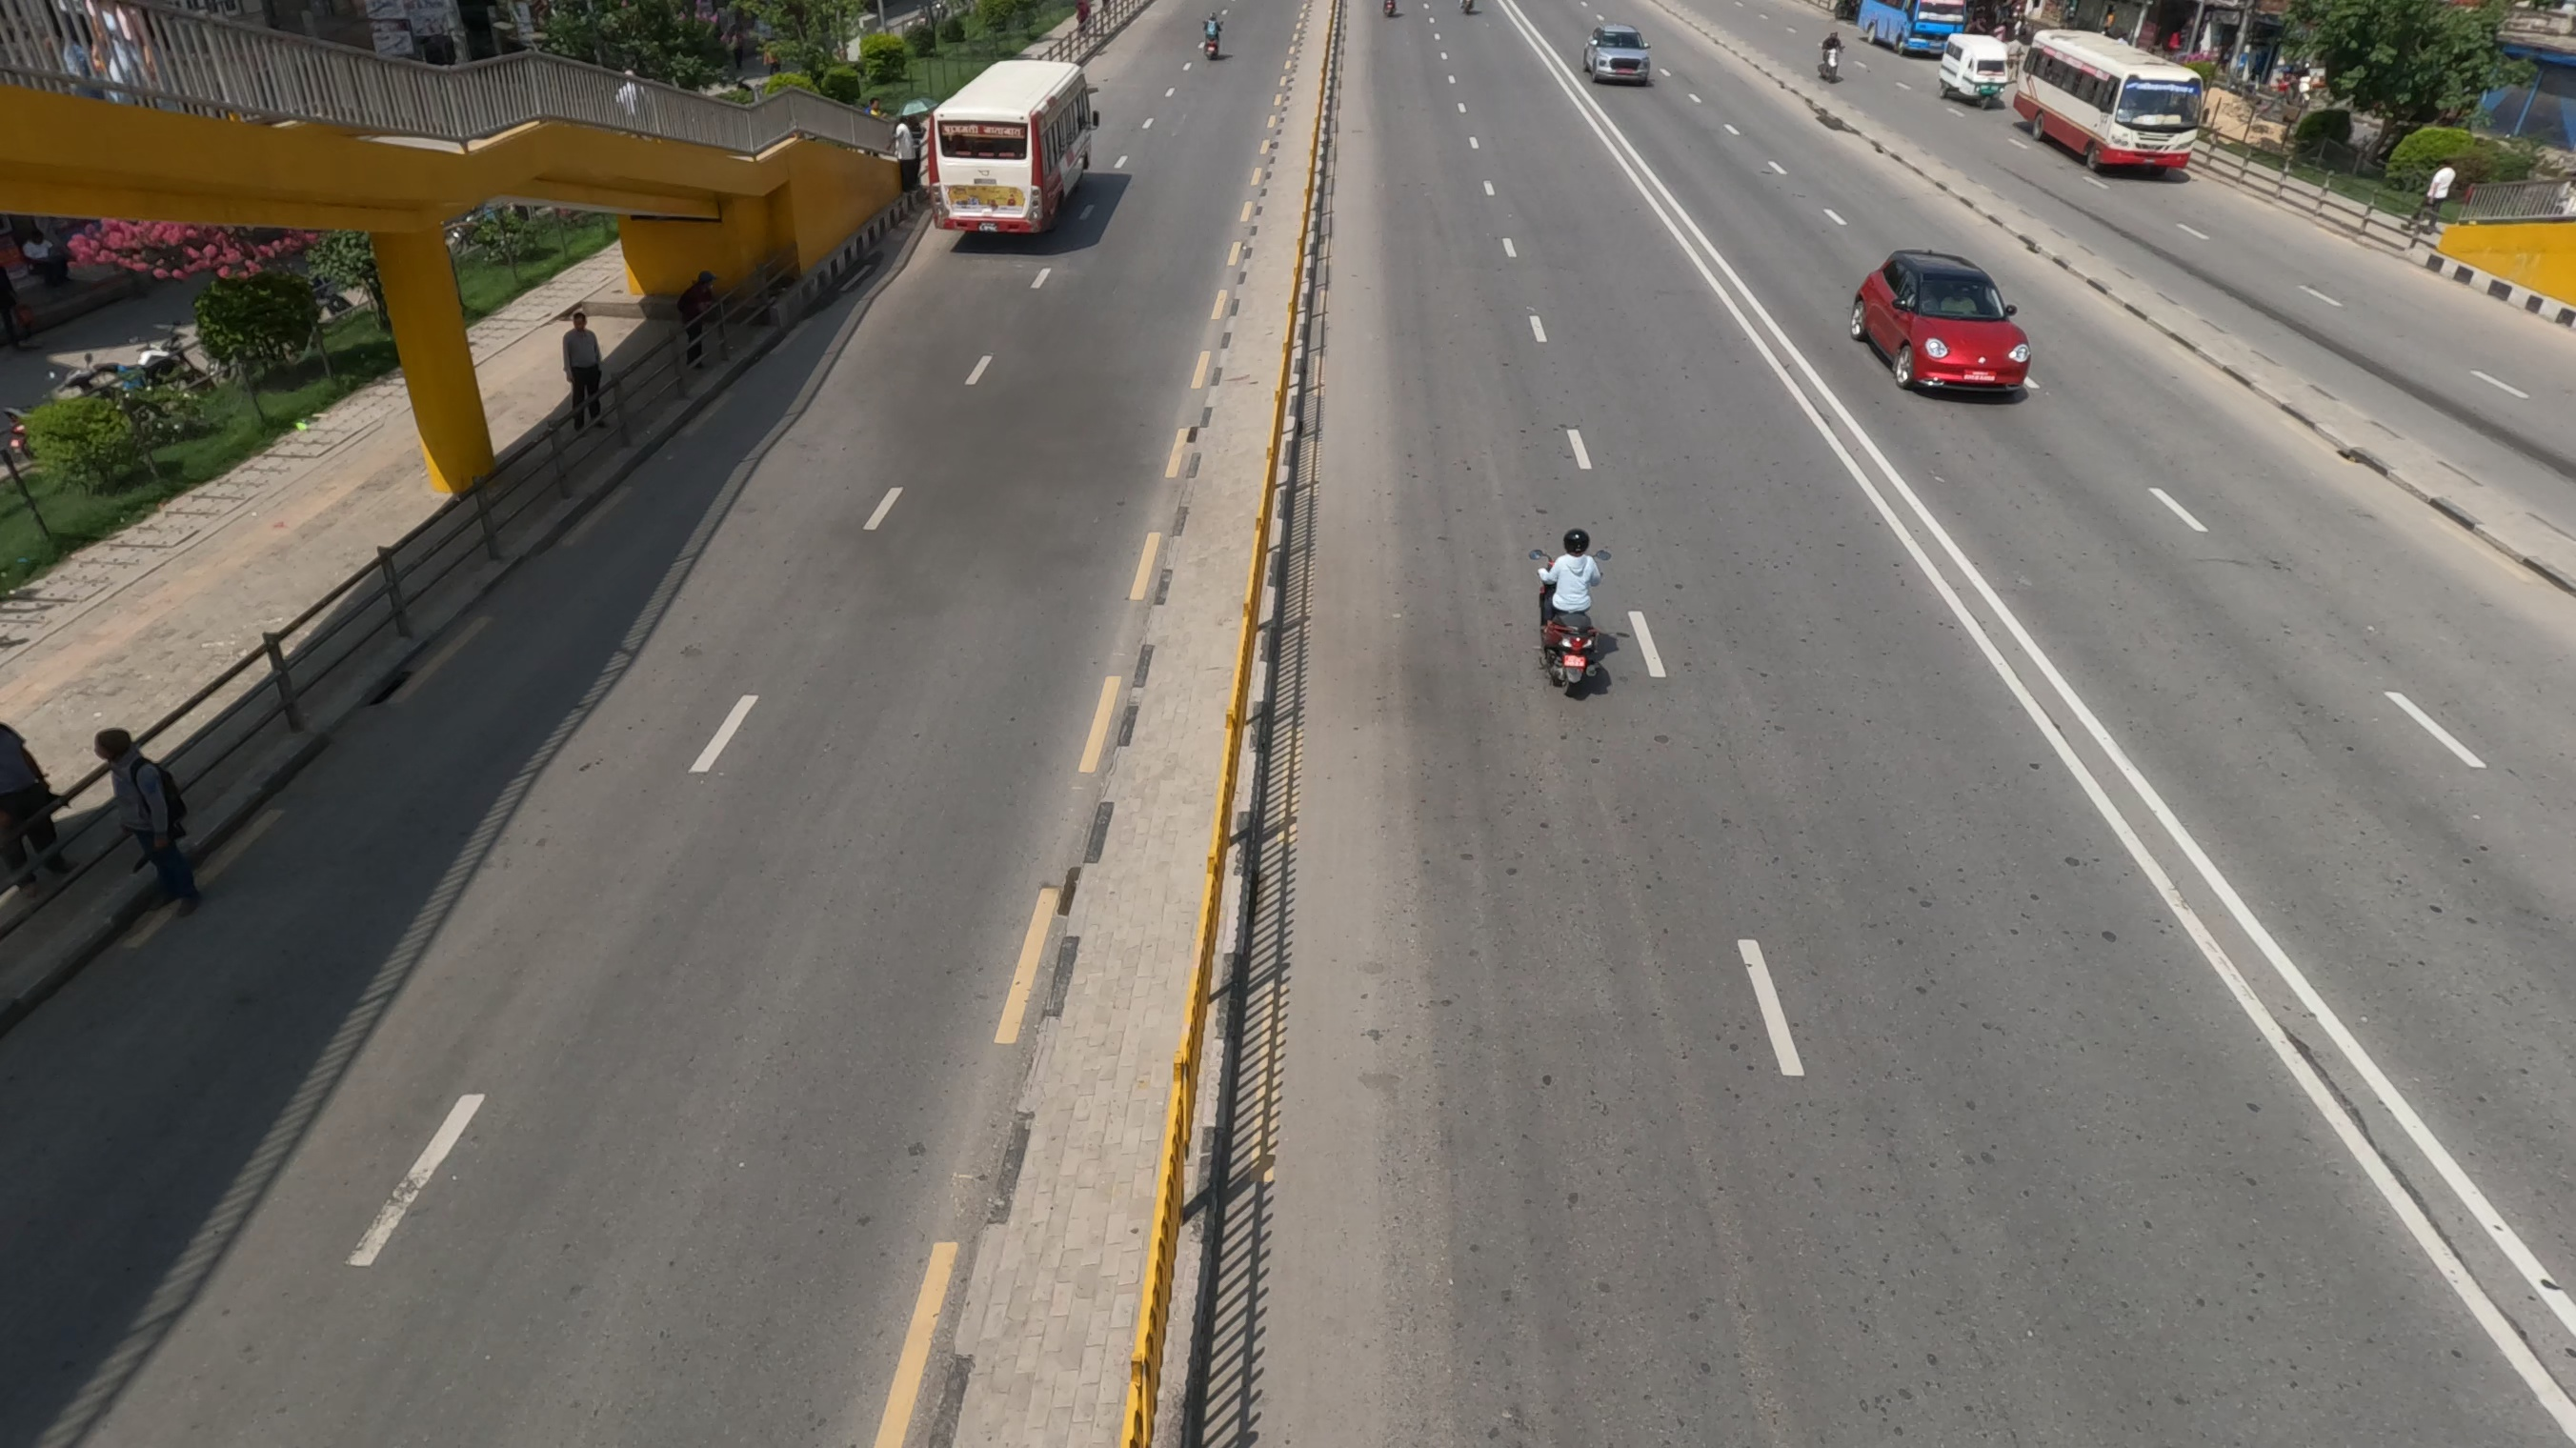smoky: (945, 126, 1058, 388)
